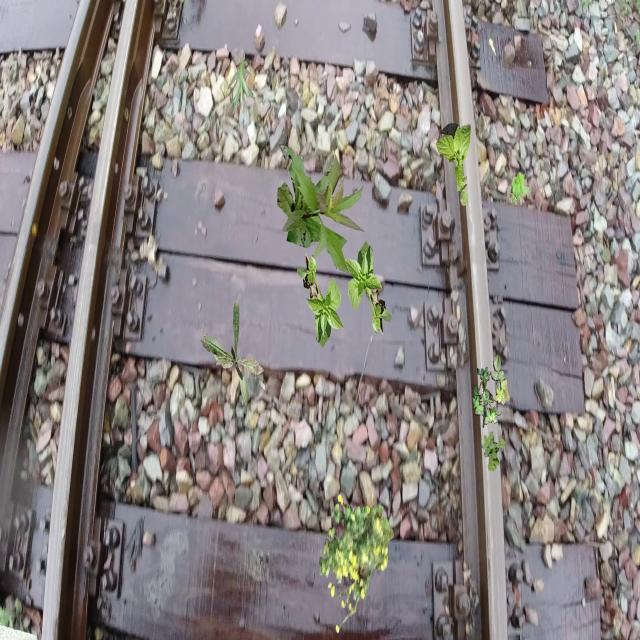Plant: (277, 144, 366, 274), (320, 494, 395, 634), (201, 301, 265, 413), (297, 253, 345, 348), (344, 241, 392, 336), (436, 123, 472, 207), (472, 354, 510, 428), (227, 60, 253, 116), (482, 432, 506, 473), (510, 172, 530, 205)
